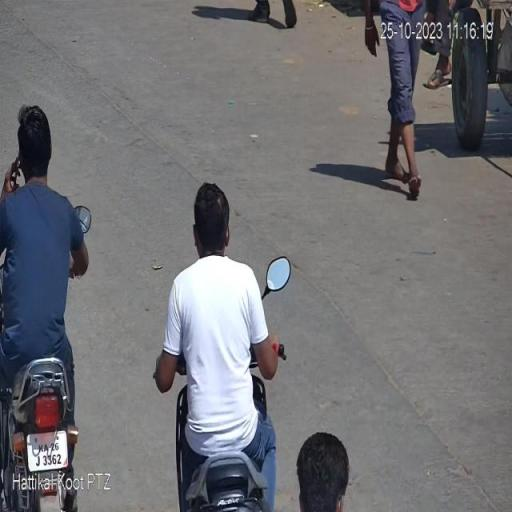numberplate: (27, 432, 69, 469)
using mobile: (5, 144, 25, 191)
